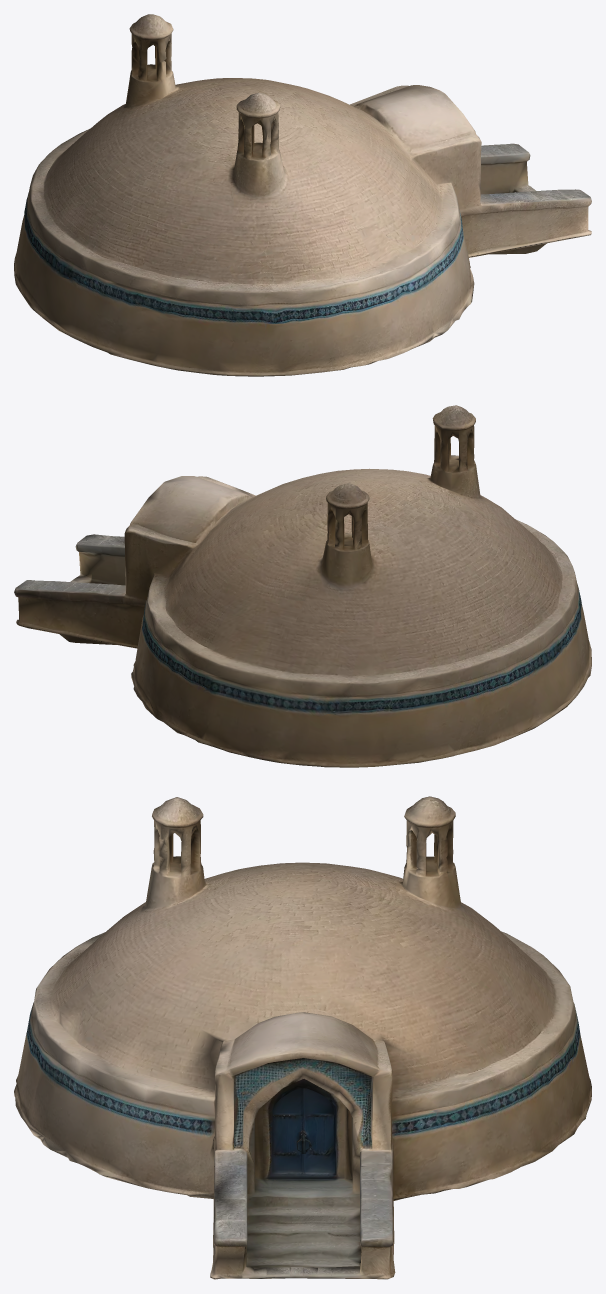
Rendered from well_abanbar.glb.
3 renders of one model, top to bottom at view 1: azimuth 30°, elevation 25°; view 2: azimuth 150°, elevation 25°; view 3: azimuth 270°, elevation 25°, orthographic. The views are drawn at different scales.
Parts seen in each view (by area): view 1: tripo_node_321ca93c-04e6-4410-9756-c9dc39859349; view 2: tripo_node_321ca93c-04e6-4410-9756-c9dc39859349; view 3: tripo_node_321ca93c-04e6-4410-9756-c9dc39859349.
Part boxes in pixels (left/top/right/bottom): tripo_node_321ca93c-04e6-4410-9756-c9dc39859349: left=14, top=14, right=591, bottom=376; tripo_node_321ca93c-04e6-4410-9756-c9dc39859349: left=14, top=405, right=591, bottom=767; tripo_node_321ca93c-04e6-4410-9756-c9dc39859349: left=14, top=796, right=591, bottom=1279.
Bounding box in the file's own units: 0.9773 × 0.469 × 0.8172.
Materials: 1 (1 with a texture image).
